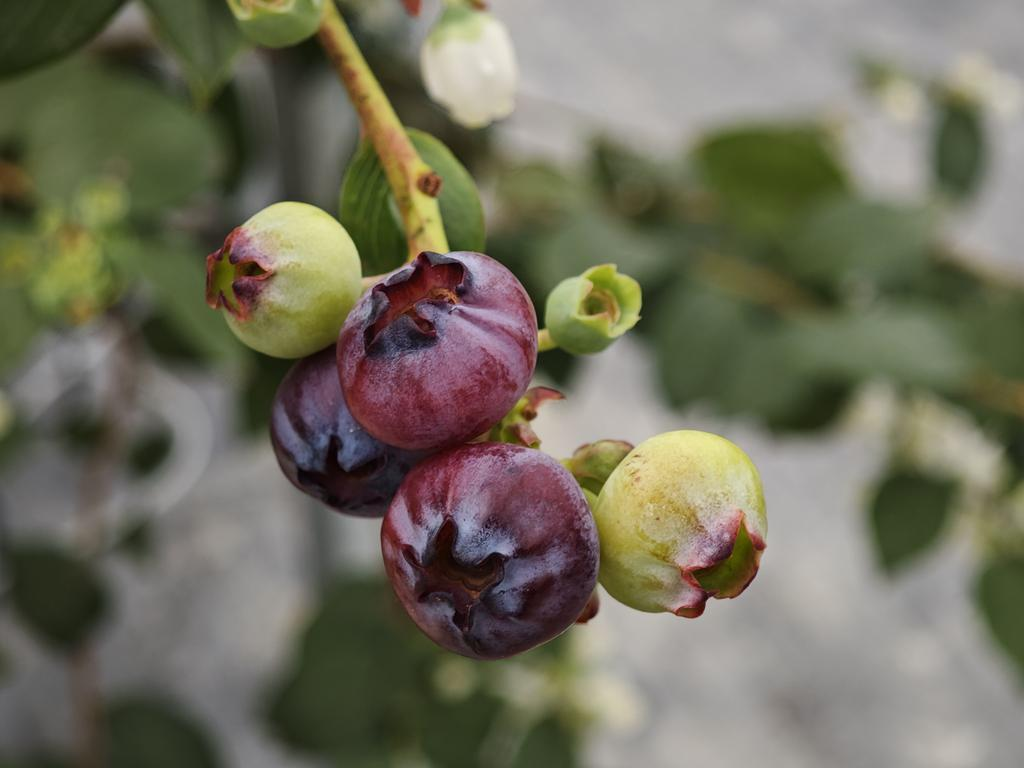Semi-RipeBlueBerry: (377, 441, 599, 665), (337, 245, 541, 452)
UnripeBlueBerry: (602, 428, 772, 619), (203, 200, 364, 361)
